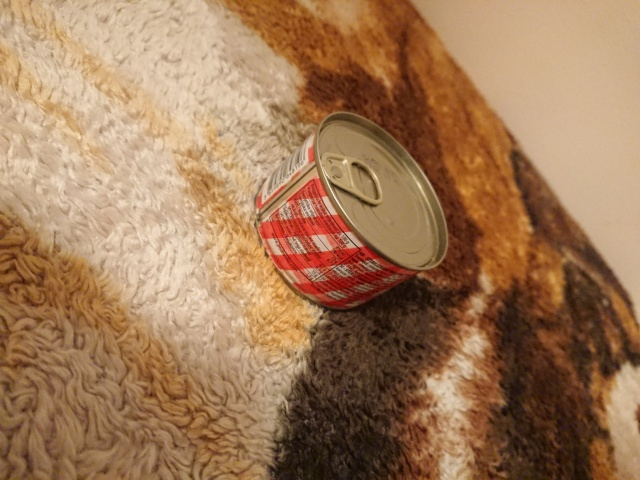Podravka Luncheon Meat 150g: (251, 110, 452, 315)
